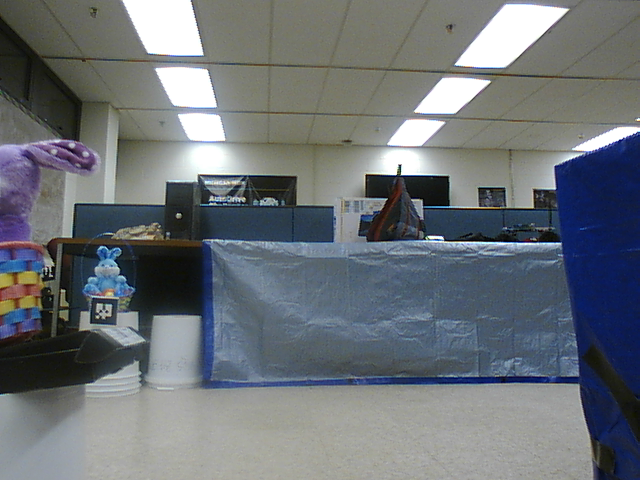bunny: (1, 145, 102, 337), (79, 226, 145, 315)
